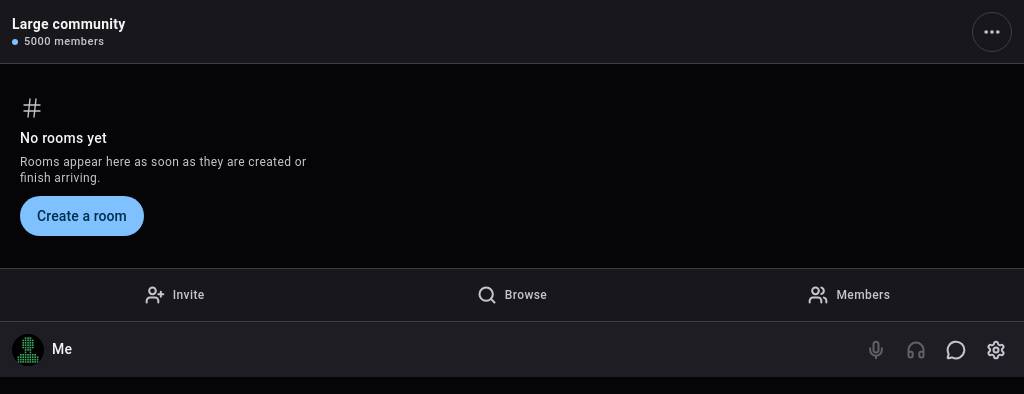
ChannelSidebar room containment › names an empty community once the refresh settles, and never alongside a failure
Click the button "Create a room": (82, 216) [20,196,144,236]
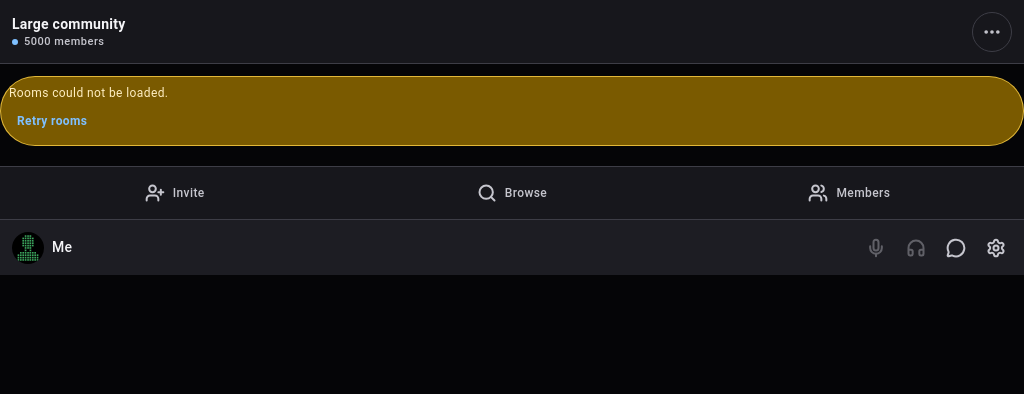
Result: the text "Rooms could not be loaded." is shown at [9,86,168,100]
Result: the text "No rooms yet" is gone
